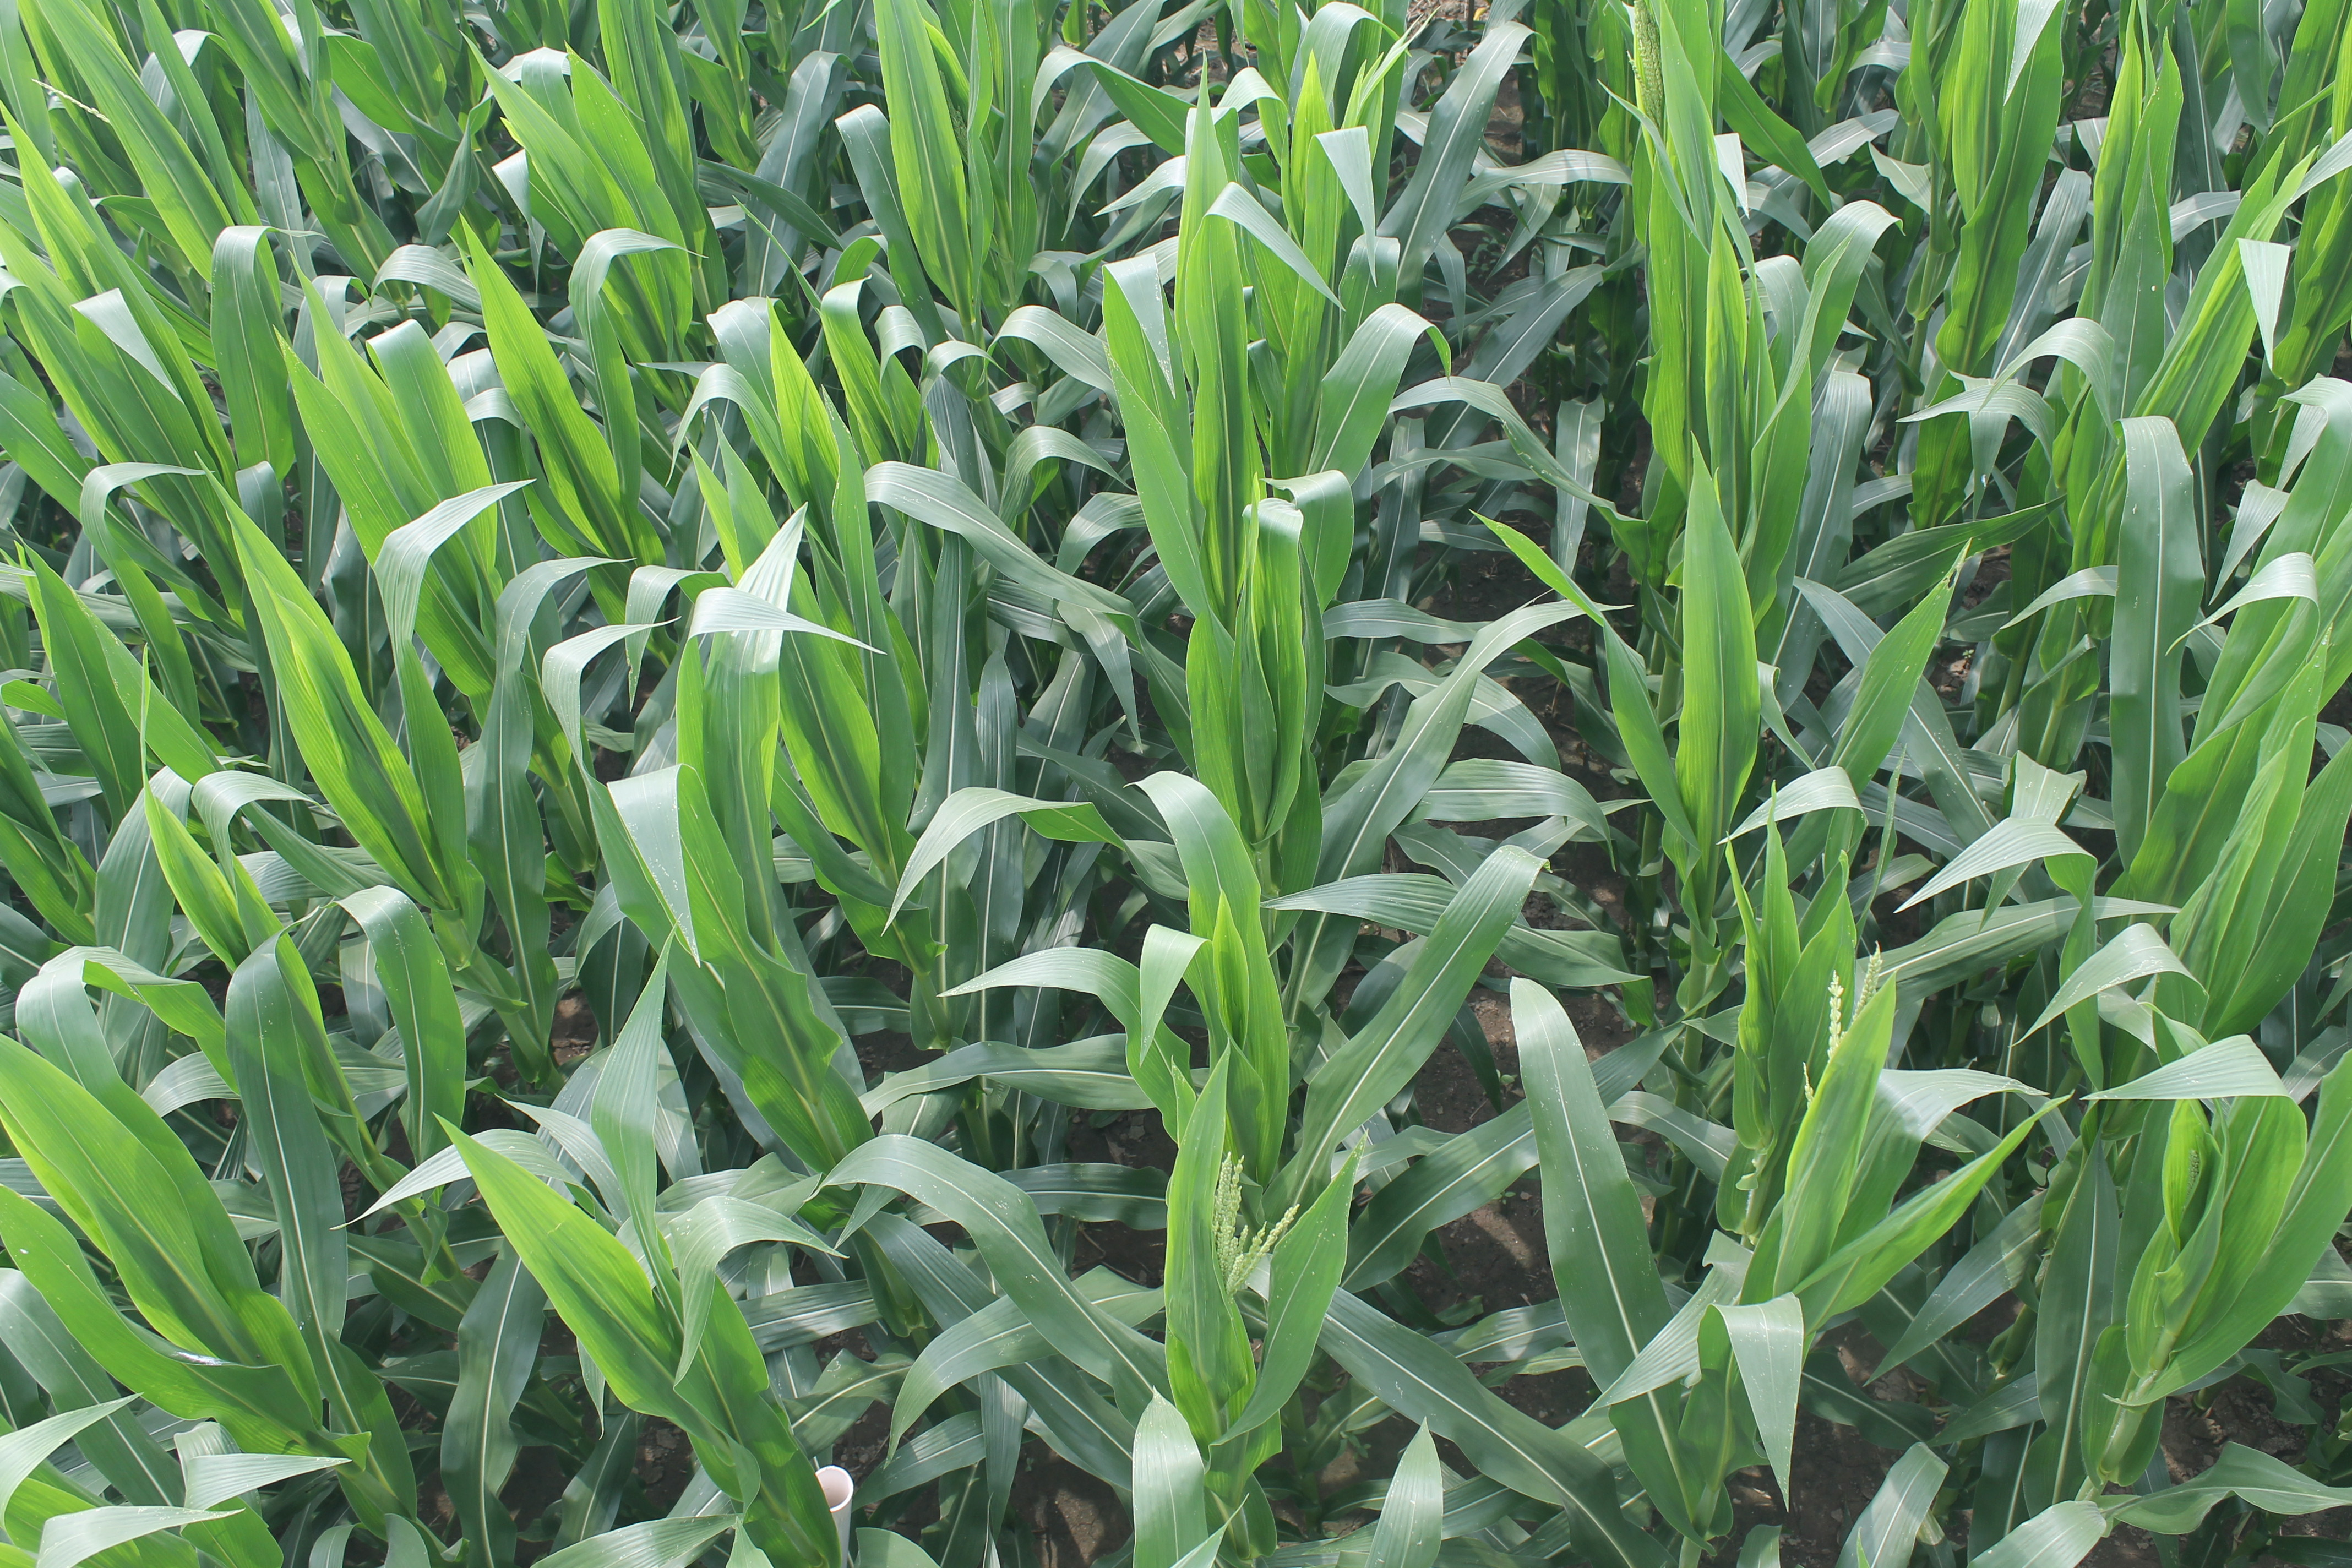Maize: (1211, 1151, 1286, 1291), (1823, 947, 1883, 1045)
